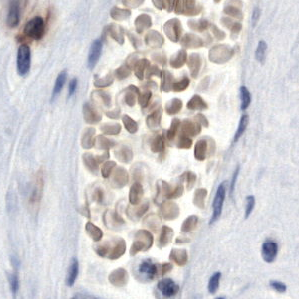Lymphocyte: (21, 13, 48, 43)
